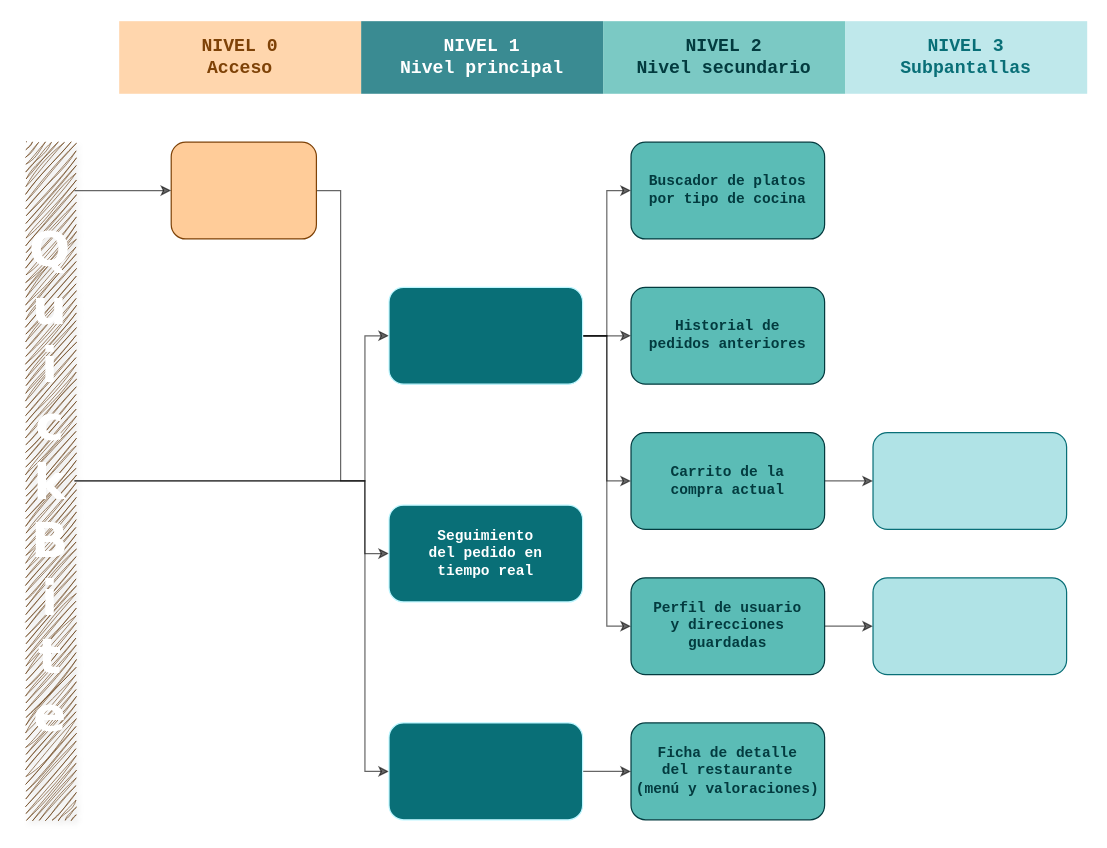
Image size: 1107x848. Some labels were removed from this diagram. The centre of each missing label's shape, as x and y in pixels:
"Centro de soporte y chat con atención al cliente" goes at point (969, 626).
"Panel de control principal (Daskboard)" goes at point (485, 335).
"Pantalla de acceso y registro" goes at point (243, 190).
"Pantalla principal con restaurantes destacados" goes at point (485, 771).
"Pasarela de pago (dirección y tarjeta)" goes at point (969, 480).
